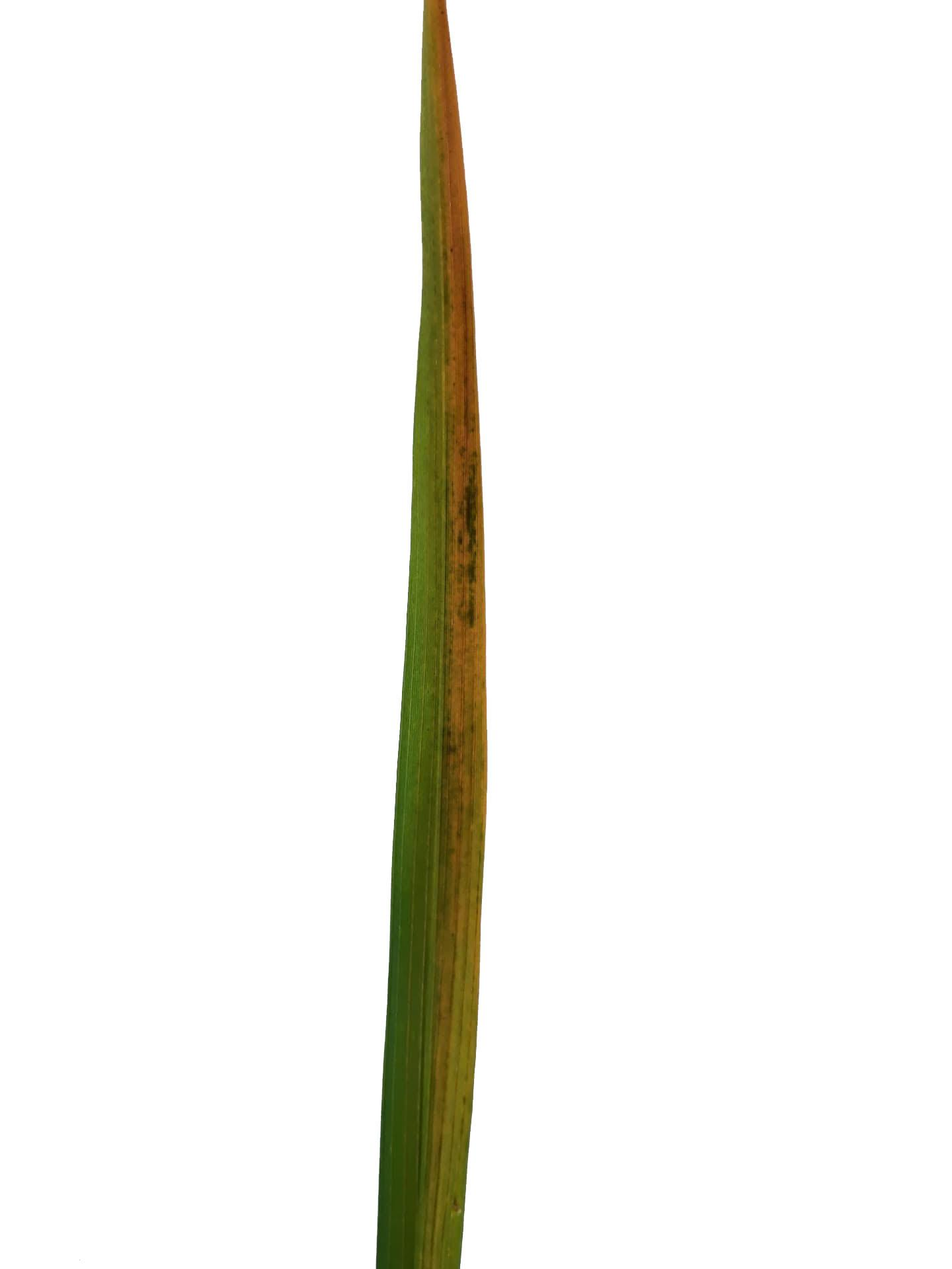Tungro: (375, 0, 491, 1269)
